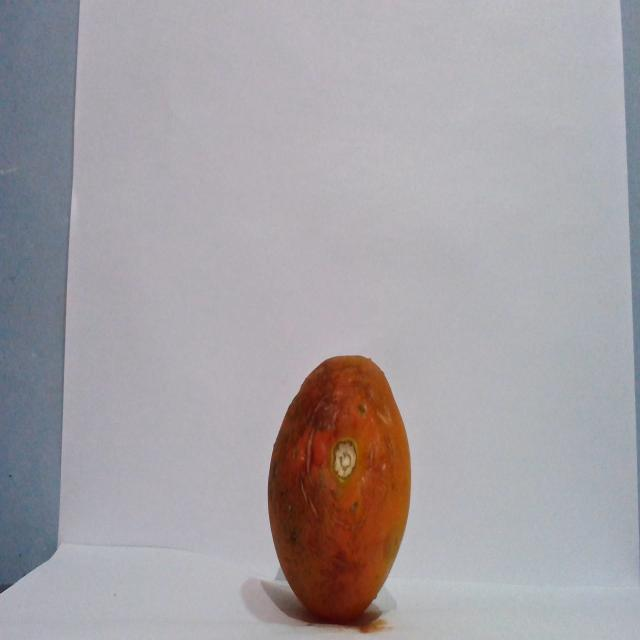Red: (266, 353, 412, 622)
